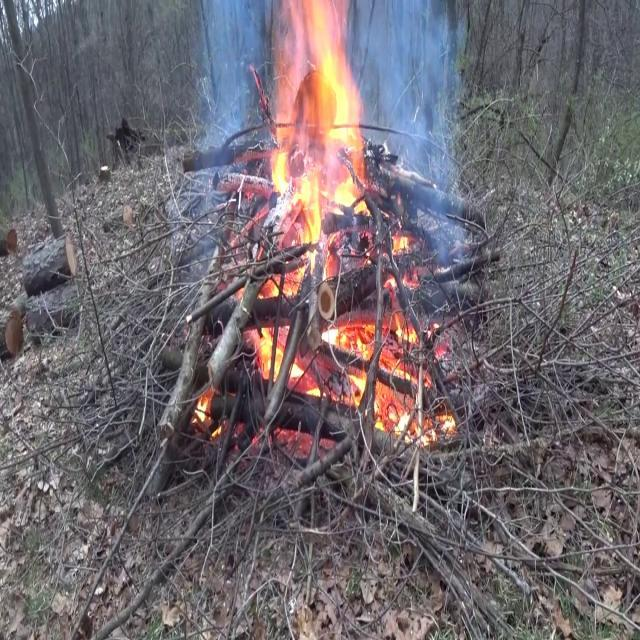Fire: (235, 0, 450, 443), (256, 1, 382, 268)
Smoke: (362, 2, 475, 258)
